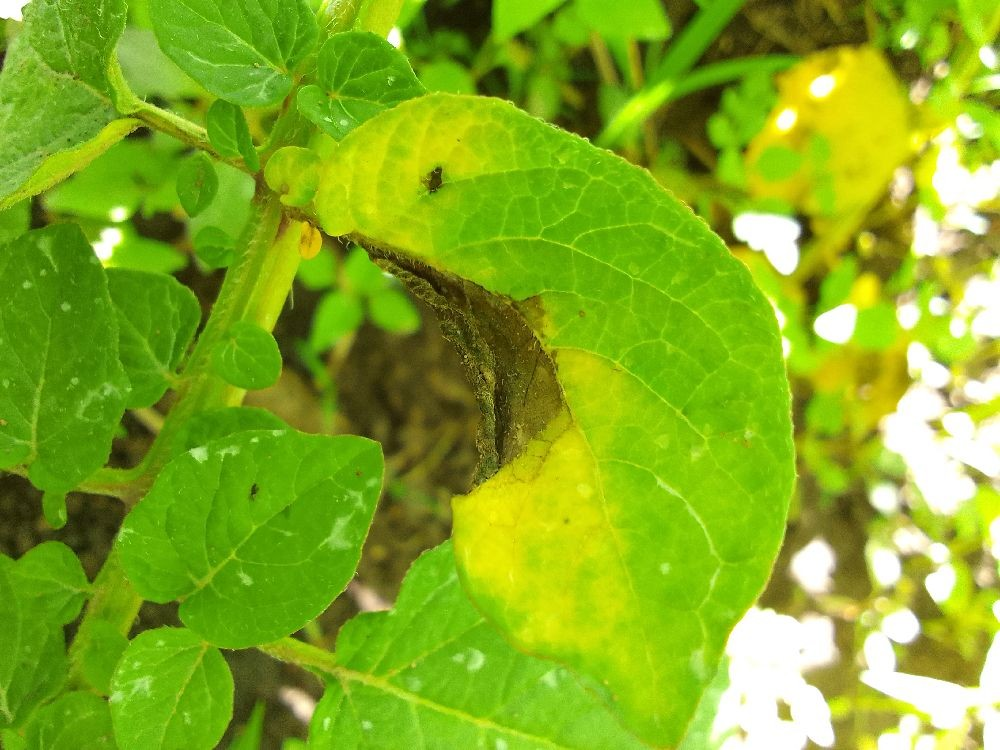late_blight: (228, 232, 581, 665), (734, 441, 905, 723), (675, 0, 925, 99), (201, 634, 337, 750)
